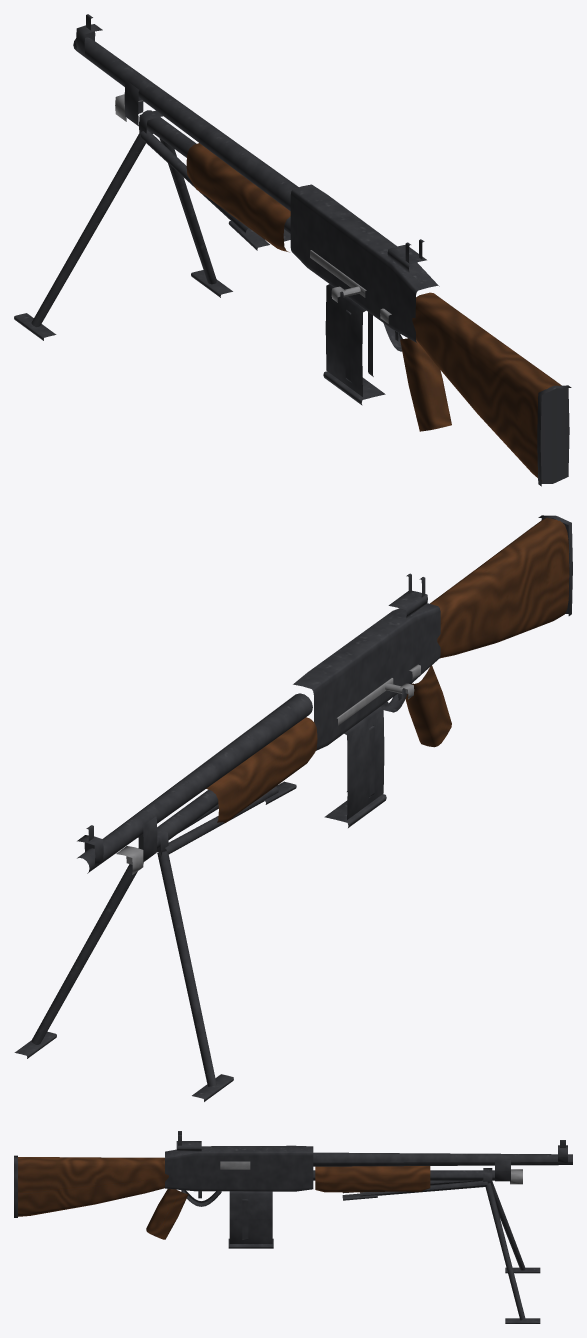
Rendered from m01_rkm_wz28_lod0.glb.
3 views of the same model, one above another, from view 1: azimuth 30°, elevation 25°; view 2: azimuth 150°, elevation 25°; view 3: azimuth 270°, elevation 25° (orthographic). The views are drawn at different scales.
Visible parts, largest first — view 1: rkm_body, rkm_bipod_open, rkm_magazine, rkm_bipod_folded; view 2: rkm_body, rkm_bipod_open, rkm_magazine, rkm_bipod_folded; view 3: rkm_body, rkm_magazine, rkm_bipod_open, rkm_bipod_folded.
Part boxes in pixels (x1,y1,x2,y2): rkm_body: (73, 14, 571, 486); rkm_bipod_open: (14, 132, 232, 340); rkm_magazine: (323, 284, 385, 405); rkm_bipod_folded: (140, 130, 290, 250); rkm_body: (77, 515, 572, 874); rkm_bipod_open: (14, 847, 233, 1101); rkm_magazine: (324, 706, 386, 827); rkm_bipod_folded: (165, 781, 296, 854); rkm_body: (14, 1131, 572, 1239); rkm_magazine: (228, 1191, 273, 1248); rkm_bipod_open: (485, 1181, 540, 1323); rkm_bipod_folded: (342, 1180, 487, 1200).
Bounding box in the file's own units: 0.258 × 0.3615 × 1.12.
1 material, 1 textured.
